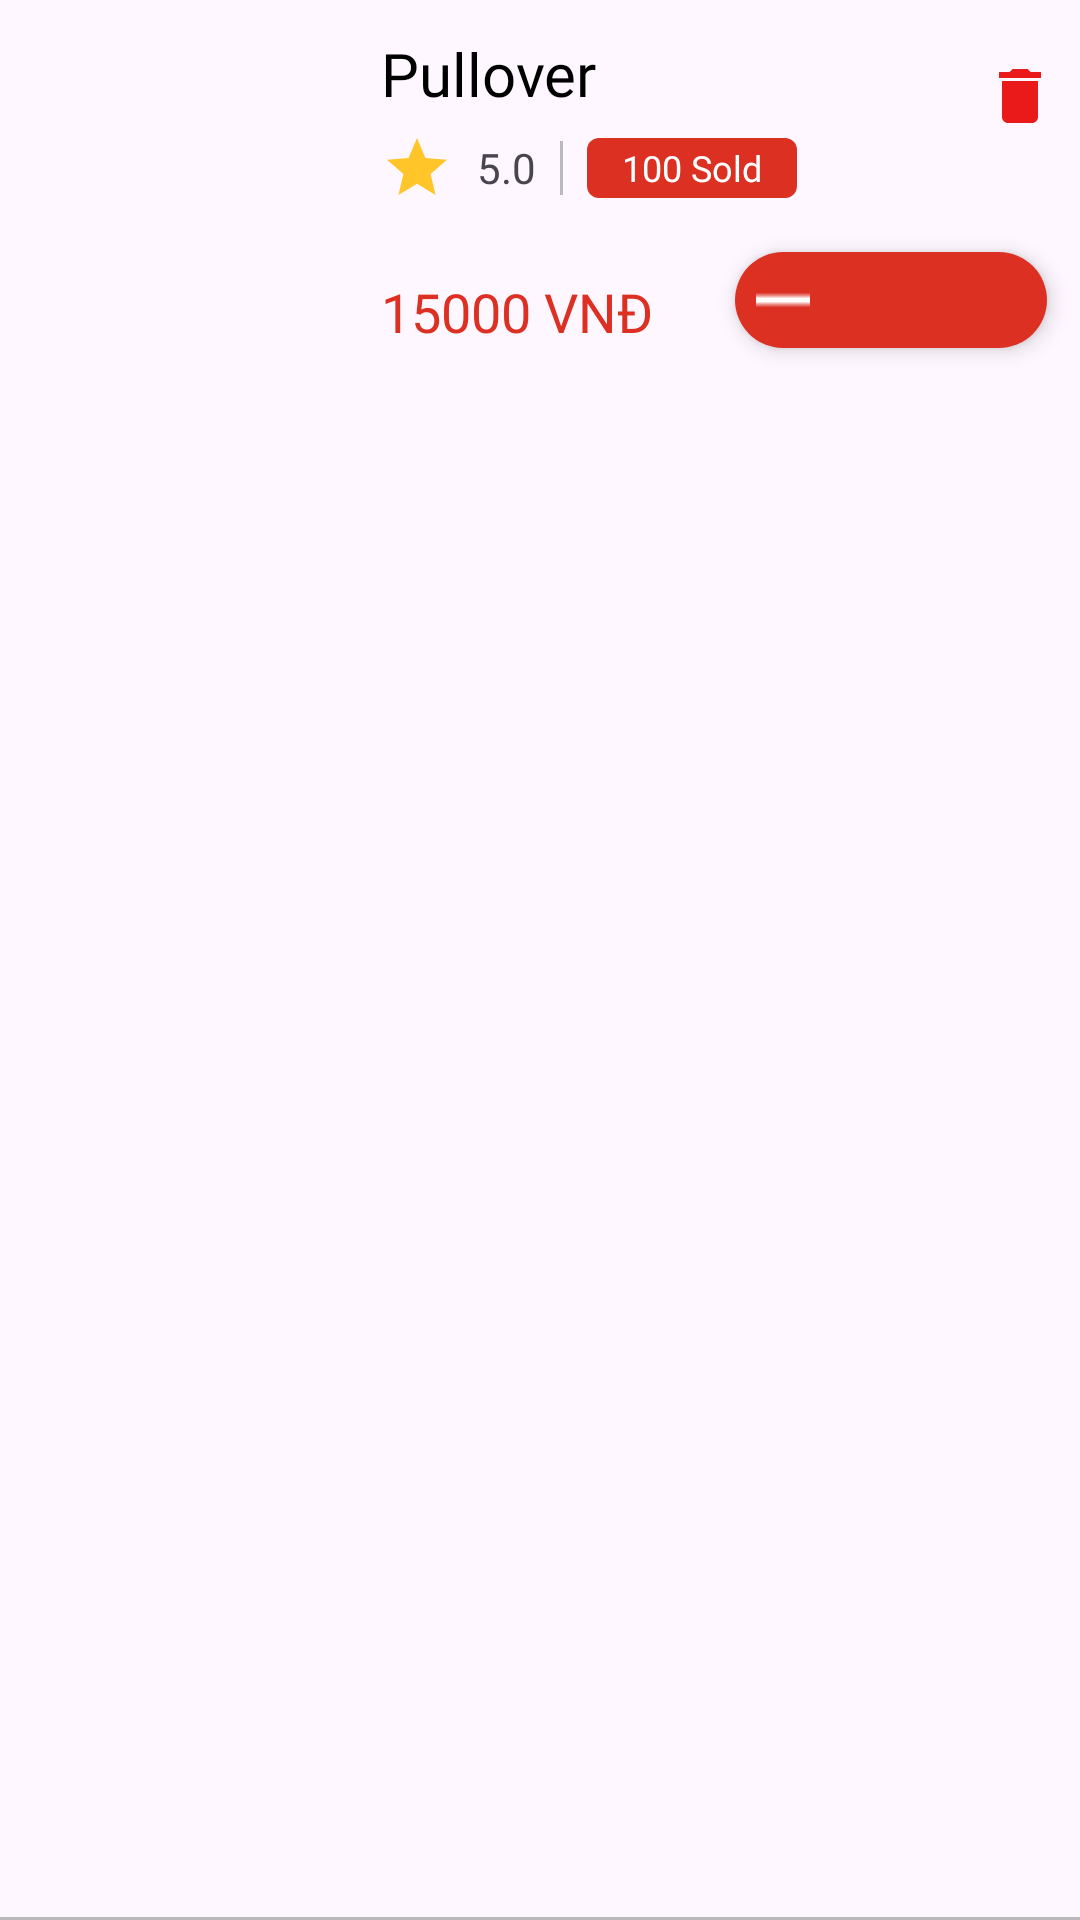

Where to tap for icons on this 1080 x 1920 app screen, as (x=x, y=y):
delete: (x=1020, y=96)
minus: (x=783, y=300)
star: (x=417, y=166)
